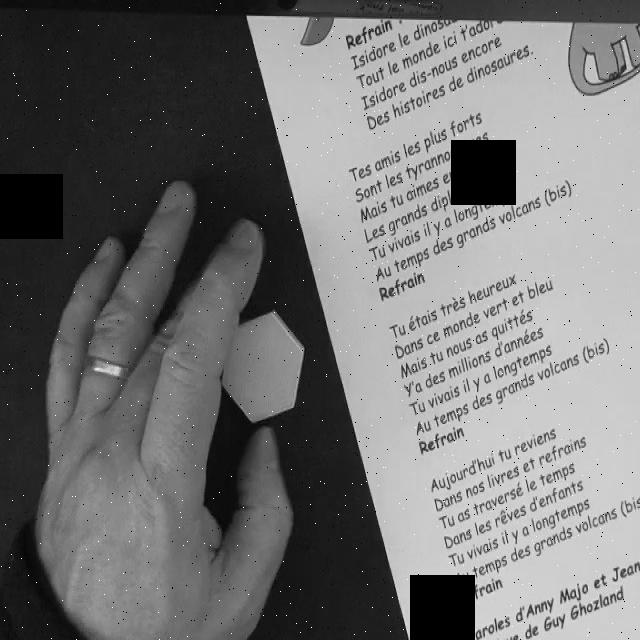hexagon: (218, 308, 306, 425)
